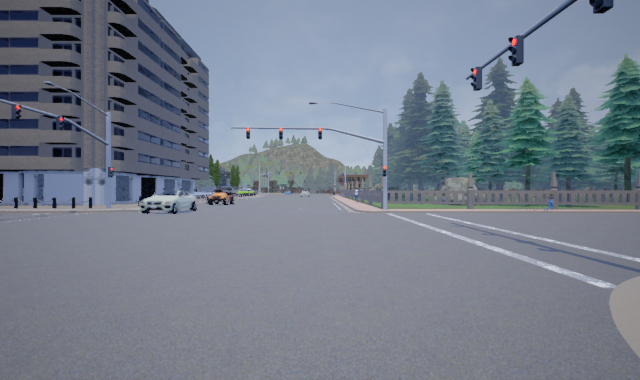pedestrian: (546, 191, 555, 211), (353, 185, 360, 203)
traffic_light: (509, 34, 524, 67), (470, 66, 483, 91), (588, 1, 614, 13), (12, 104, 22, 120), (56, 115, 64, 130), (107, 166, 114, 178), (278, 126, 284, 139), (246, 127, 251, 141), (318, 127, 323, 138), (382, 166, 386, 175)
vehicle: (136, 189, 200, 215), (206, 187, 234, 206), (237, 187, 254, 197)
